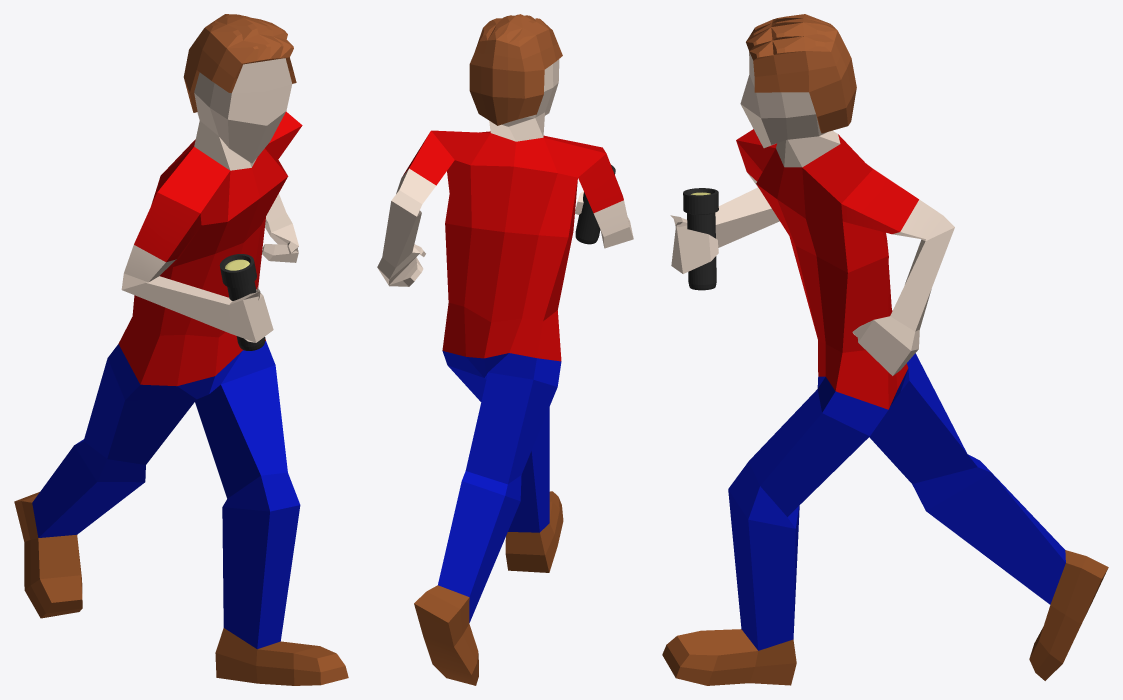
Rendered from Human_running_4.fbx.
The picture shows the model from 3 angles, left to right: view 1: azimuth 30°, elevation 25°; view 2: azimuth 150°, elevation 25°; view 3: azimuth 270°, elevation 25°; orthographic projection. The views are drawn at different scales.
Parts seen in each view (by area): view 1: Person.004, Flashlight; view 2: Person.004, Flashlight; view 3: Person.004, Flashlight.
Part boxes in pixels (x1,y1,x2,y2): Person.004: (14, 14, 348, 685); Flashlight: (219, 254, 265, 350); Person.004: (377, 14, 633, 685); Flashlight: (575, 165, 615, 244); Person.004: (662, 14, 1108, 685); Flashlight: (683, 188, 718, 290).
Size of the model in its own units: 0.5776 by 1.57 by 0.9336.
